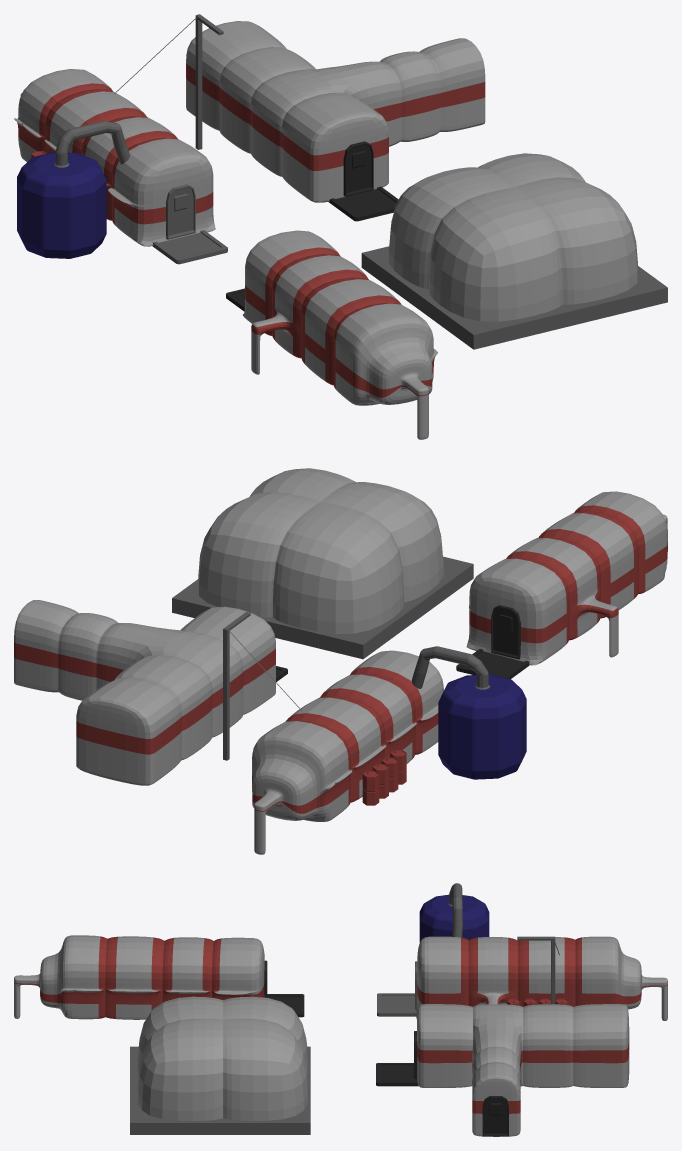
The model's file is BAZA (2).fbx.
3 views of the same model, one above another, from view 1: azimuth 30°, elevation 25°; view 2: azimuth 150°, elevation 25°; view 3: azimuth 270°, elevation 25° (orthographic). The views are drawn at different scales.
Visible parts, largest first — view 1: Cube.007, Cube.005, Cube.003, Cube, Cylinder.008, Cube.008, Cube.002, Plane.002, Cube.006, Plane, Cube.001; view 2: Cube.005, Cube.007, Cube.003, Cube, Cylinder.008, Cube.008, Plane.001, Cube.001, Cube.004, Cylinder.004; view 3: Cube.007, Cube.005, Cube.003, Cube, Cube.008, Cylinder.008, Plane.003, Cube.006, Cube.002, Cube.001, Cube.004.
Part boxes in pixels (x1,y1,x2,y2): Cube.007: [388, 153, 637, 321]; Cube.005: [186, 21, 485, 202]; Cube.003: [243, 230, 437, 439]; Cube: [14, 69, 215, 246]; Cylinder.008: [17, 120, 129, 258]; Cube.008: [361, 246, 667, 349]; Cube.002: [152, 230, 227, 264]; Plane.002: [343, 141, 373, 196]; Cube.006: [329, 186, 398, 221]; Plane: [166, 184, 195, 239]; Cube.001: [114, 14, 223, 149]; Cube.005: [14, 600, 275, 785]; Cube.007: [198, 468, 443, 633]; Cube.003: [466, 491, 667, 665]; Cube: [252, 650, 443, 854]; Cylinder.008: [411, 646, 526, 779]; Cube.008: [172, 556, 473, 659]; Plane.001: [491, 605, 520, 659]; Cube.001: [223, 612, 301, 760]; Cube.004: [456, 649, 529, 679]; Cylinder.004: [362, 771, 379, 805]; Cube.007: [137, 996, 308, 1120]; Cube.005: [417, 1004, 629, 1136]; Cube.003: [14, 935, 264, 1019]; Cube: [416, 936, 667, 1020]; Cube.008: [130, 1046, 310, 1134]; Cylinder.008: [419, 883, 489, 942]; Plane.003: [482, 1096, 508, 1136]; Cube.006: [376, 1063, 418, 1086]; Cube.002: [377, 993, 416, 1016]; Cube.001: [517, 936, 559, 1004]; Cube.004: [267, 994, 304, 1017].
Bounding box in the file's own units: 1217 × 372 × 1791.
